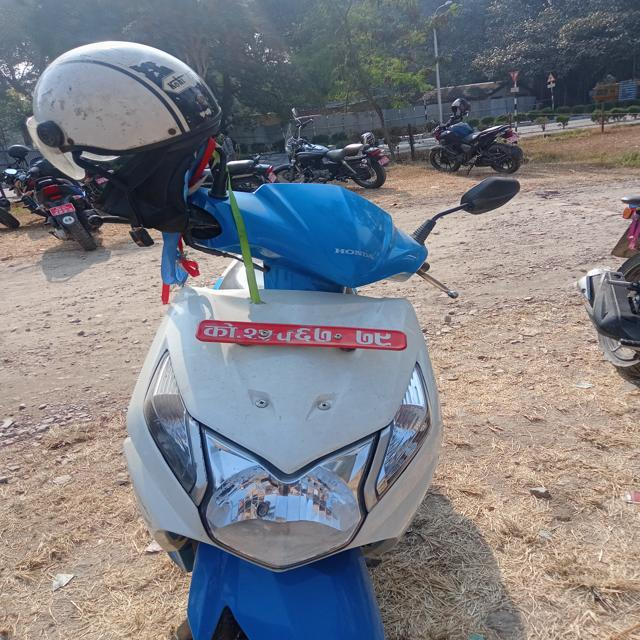license_plate: (169, 306, 421, 364)
